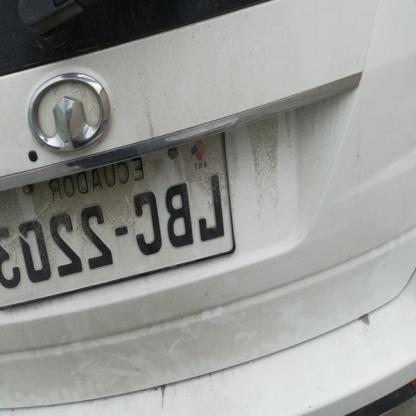Placa: (0, 119, 239, 320)
